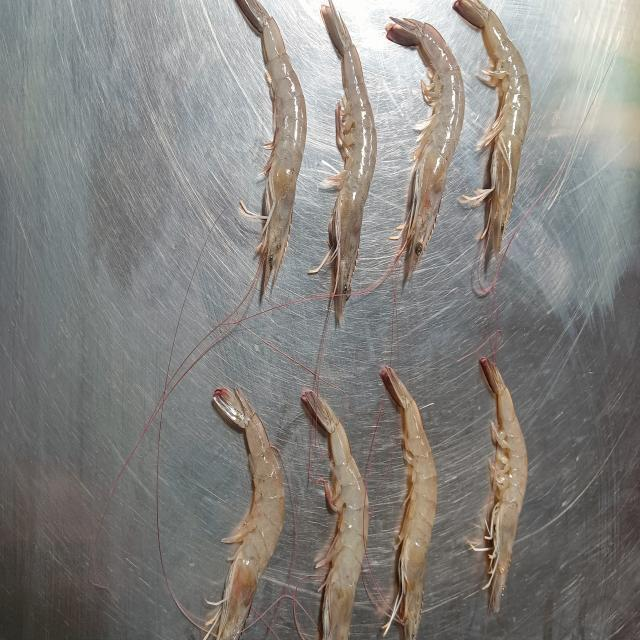shrimp: (386, 18, 465, 281), (238, 0, 306, 292), (206, 387, 285, 638), (454, 0, 530, 252), (321, 2, 376, 321), (301, 390, 369, 640), (381, 367, 436, 638), (481, 359, 526, 609)
